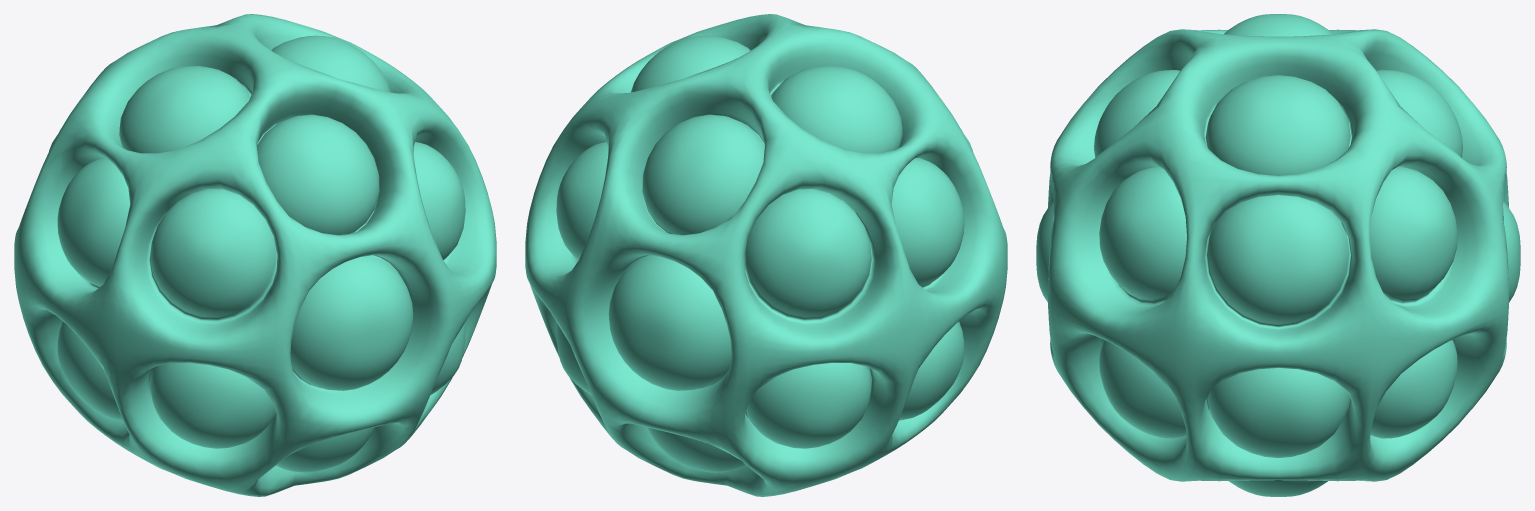
File: greenball.glb
3 renders of one model, left to right at view 1: azimuth 30°, elevation 25°; view 2: azimuth 150°, elevation 25°; view 3: azimuth 270°, elevation 25°, orthographic. The views are drawn at different scales.
Parts seen in each view (by area): view 1: Green Ball; view 2: Green Ball; view 3: Green Ball.
Part boxes in pixels (x1,y1,x2,y2): Green Ball: (14, 14, 496, 496); Green Ball: (525, 14, 1007, 496); Green Ball: (1036, 14, 1520, 496).
Bounding box in the file's own units: 4.37 × 4.29 × 4.35.
